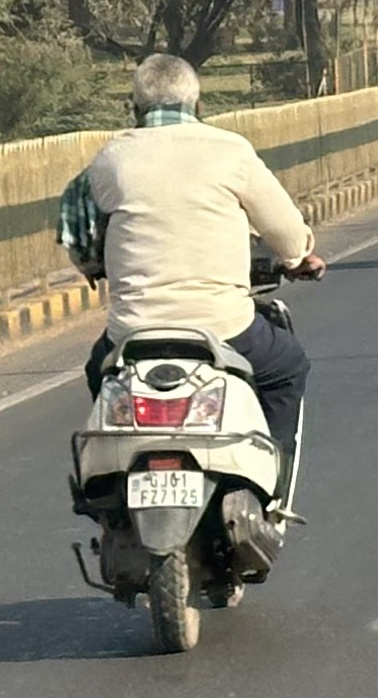BikeWithRider: (45, 44, 343, 665)
NoHelmet: (125, 44, 210, 129)
